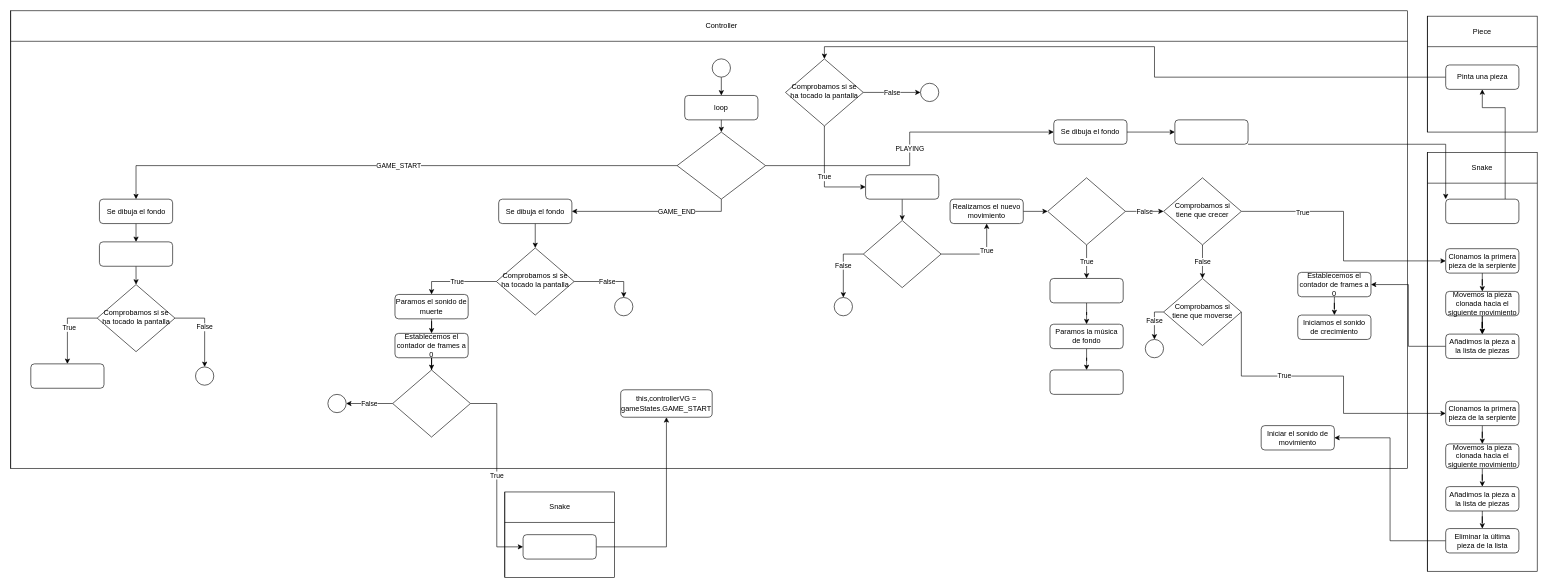
This 1548x588 diagram has some shape labels left out. Each missing label, with the centre of its shape:
"Comprobamos el estado de controllerVG" goes at [721,165].
"Comprobamos si la serpiente se ha muerto con ese movimiento" goes at [1086,211].
"Comprobamos si no existe serpiente o ha muerto" goes at [431,403].
"Creamos una nueva serpiente" goes at [559,546].
"Detectamos donde se ha tocado" goes at [902,186].
"Identificamos si el movimiento es válido" goes at [902,254].
"Iniciamos el sonido de muerte" goes at [1086,381].
"Se inicia la musica de fondo y se le establece un volumen" goes at [136,253].
"Se llama al render de Piece" goes at [1482,211].
"Se llama al render de Snake" goes at [1211,131].
"this,controllerVG = gameStates.GAME_END" goes at [1086,290].
"this,controllerVG = gameStates.PLAYING" goes at [67,375].
